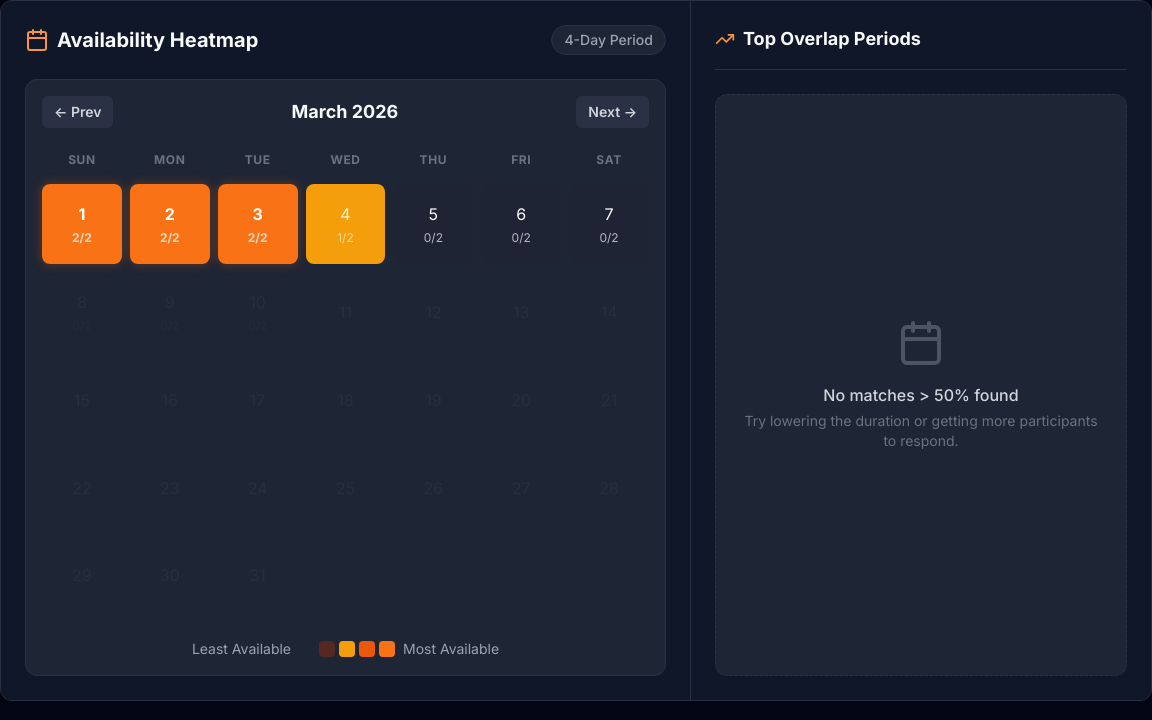
Test: SlidingOverlapCalendar Edge Cases › shows "Missing X days" when participants have partial overlap
The width and height of the screenshot is (1152, 720).
Click the button with test id "day-2026-03-01".
click(82, 224)  # box [42,184,122,264]
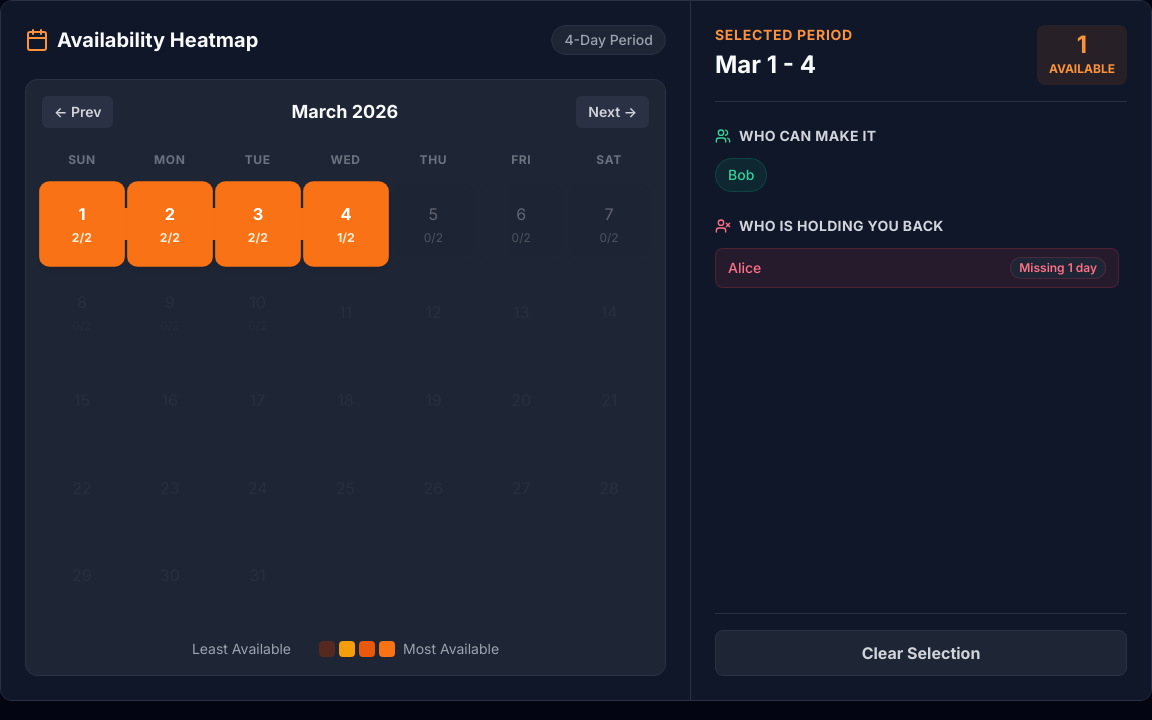
Expected: the text "Alice" is shown, [728,258,761,278]
Expected: the text "Missing 1 day" is shown, [1010,257,1106,279]
